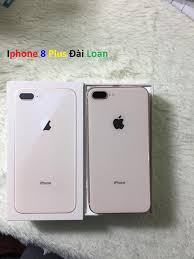iphone8: (85, 84, 152, 215)
